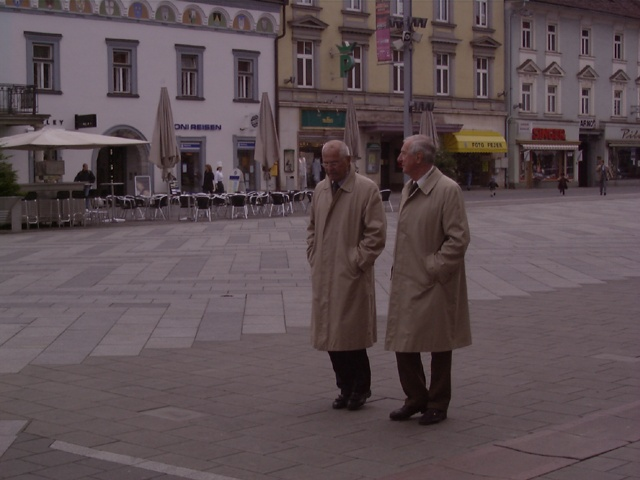person: (384, 131, 471, 425), (302, 136, 390, 409)
